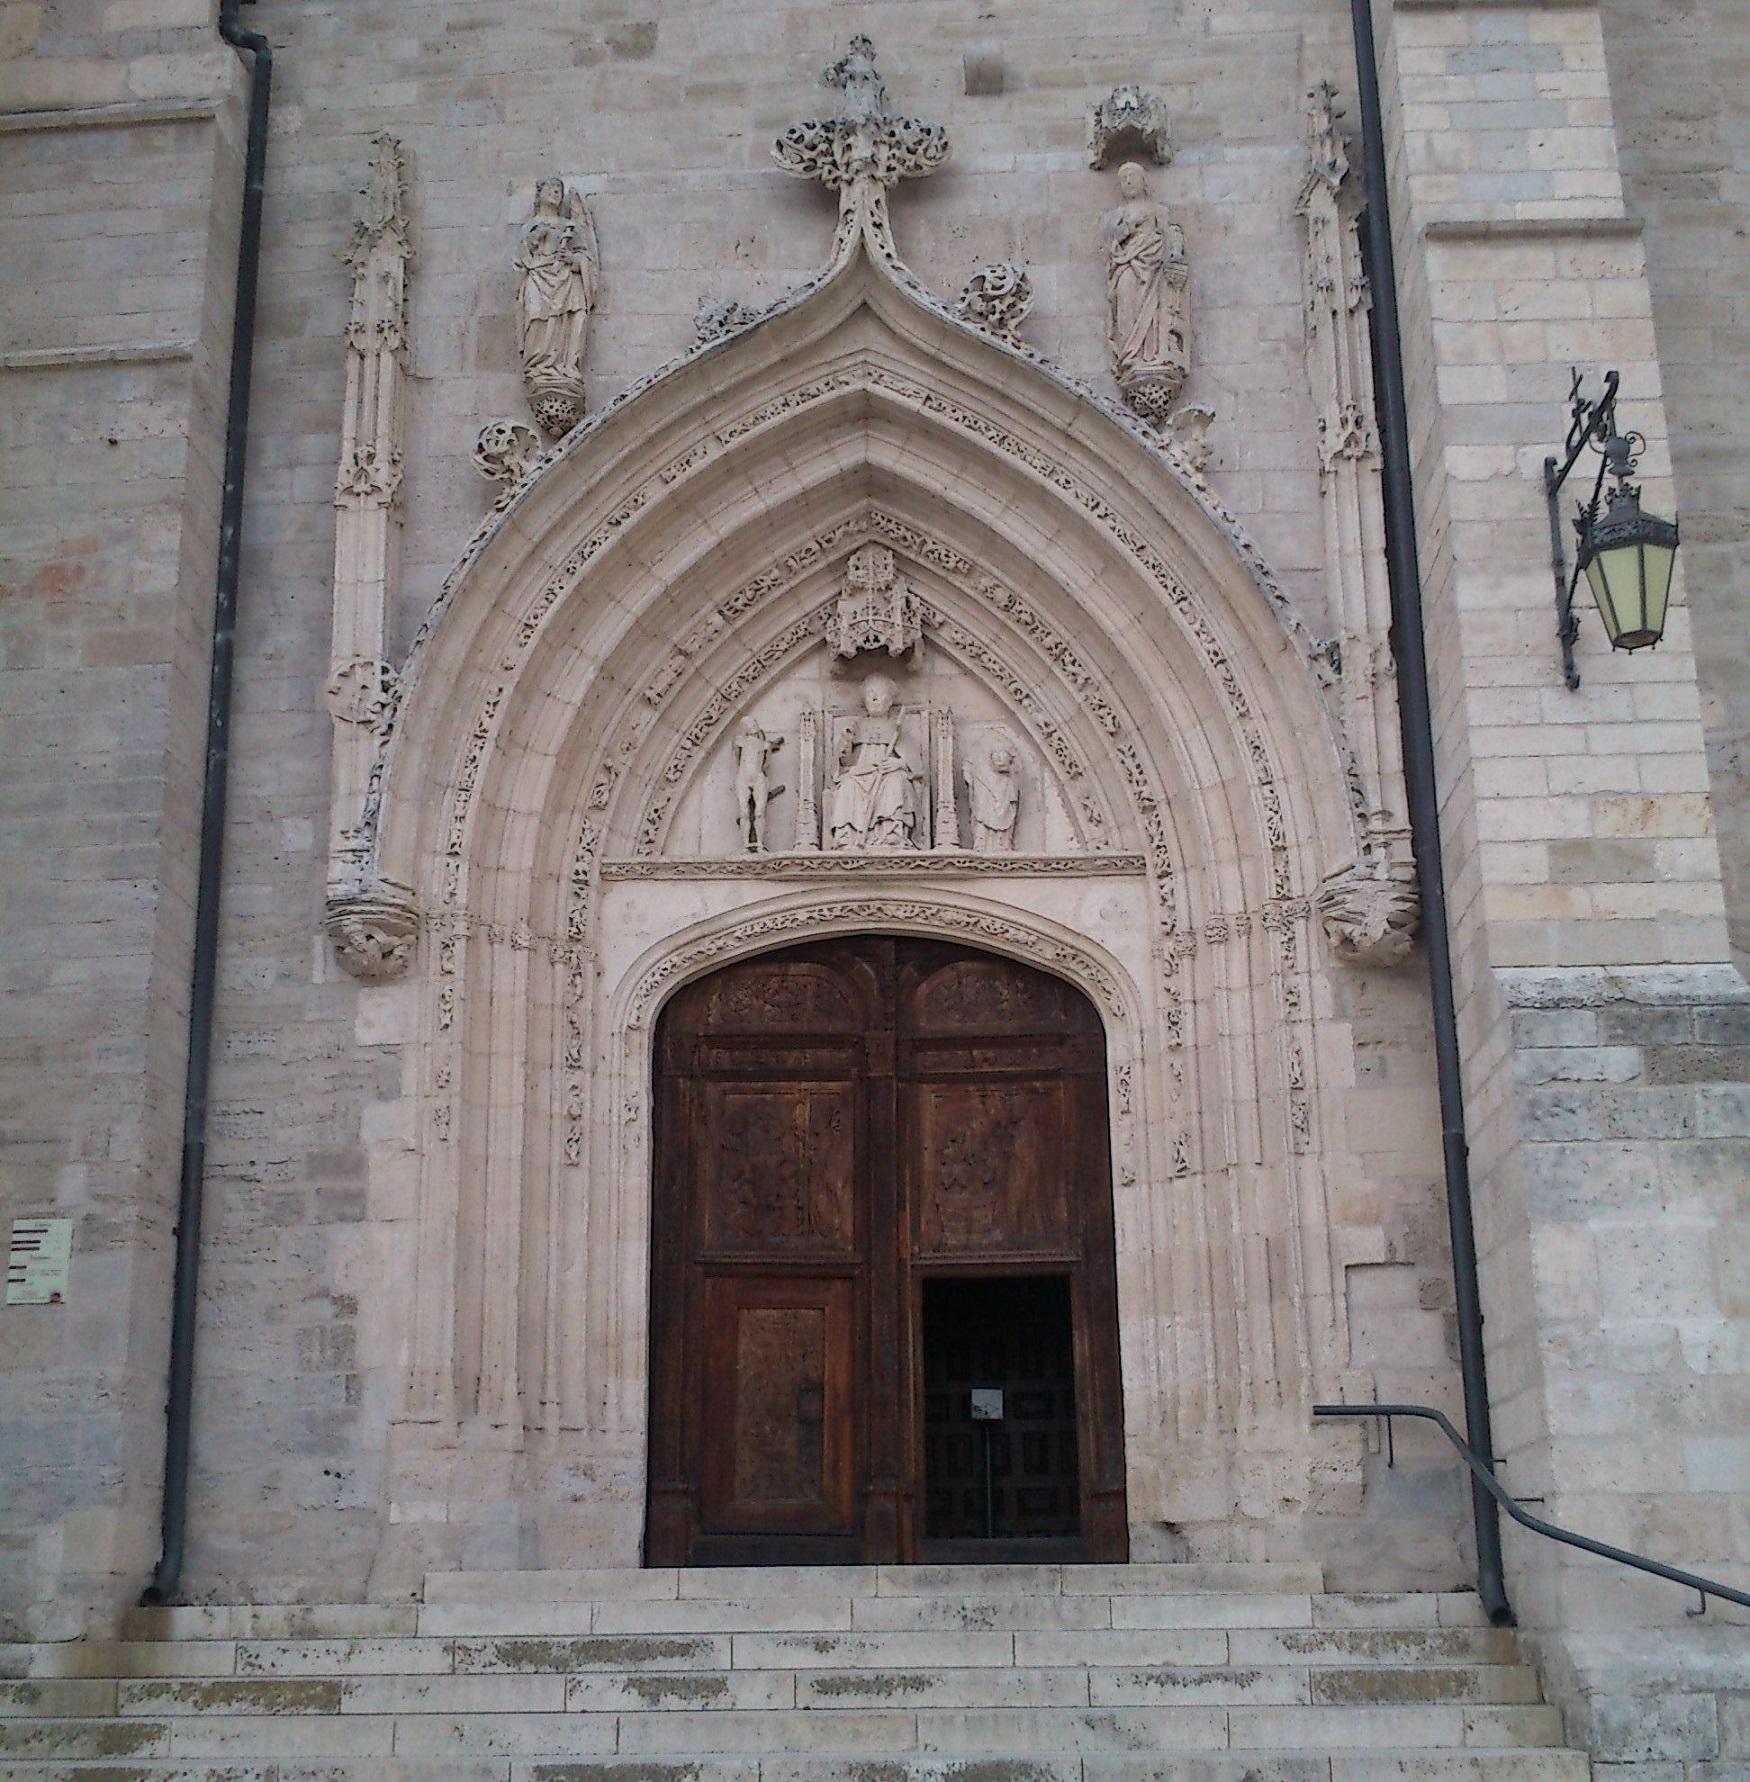arco-apuntado: (470, 381, 1285, 846)
arco-conopial: (612, 215, 1111, 389)
